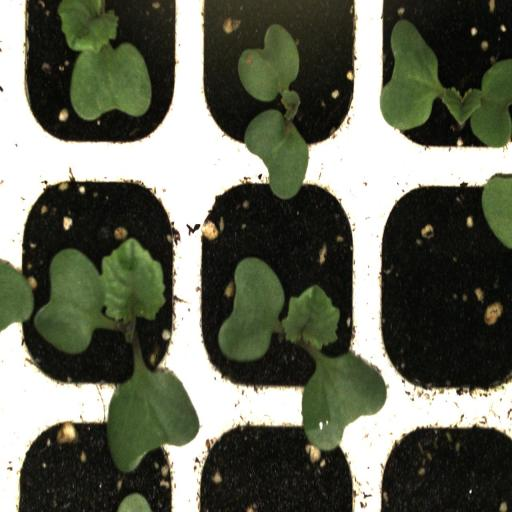Folha: (106, 355, 199, 474), (237, 22, 312, 109), (244, 107, 309, 200)
Germinacao: (188, 168, 370, 396), (14, 164, 187, 401), (13, 0, 188, 164), (192, 0, 366, 163), (370, 0, 512, 163)
